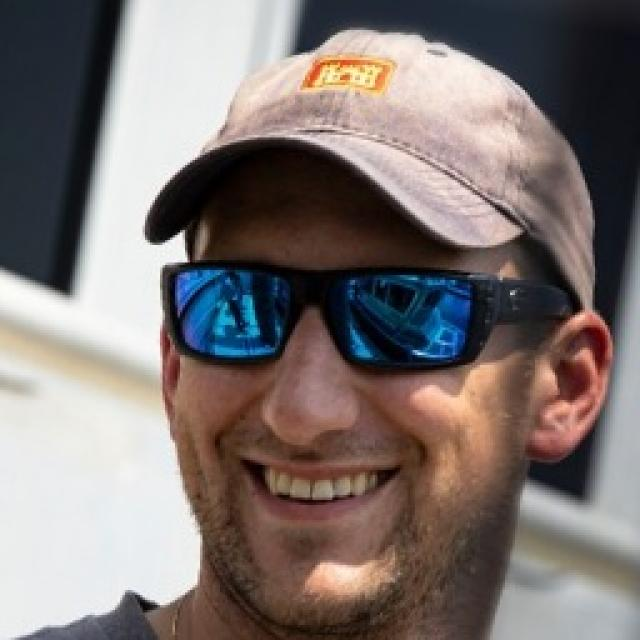glasses: (147, 248, 573, 390)
